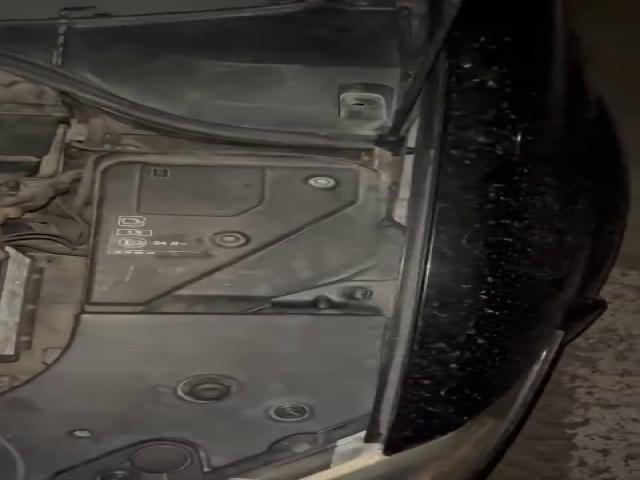fuse_box: (85, 152, 388, 314)
